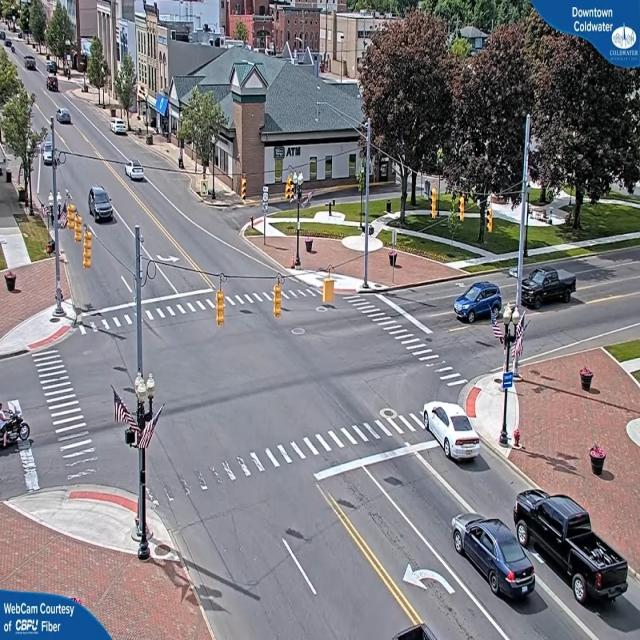car: (517, 488, 627, 586), (451, 513, 540, 603), (422, 402, 483, 463), (521, 268, 577, 310), (453, 282, 501, 323), (90, 186, 114, 223), (110, 120, 128, 136), (128, 162, 144, 180)
motorbike: (0, 404, 30, 450)
